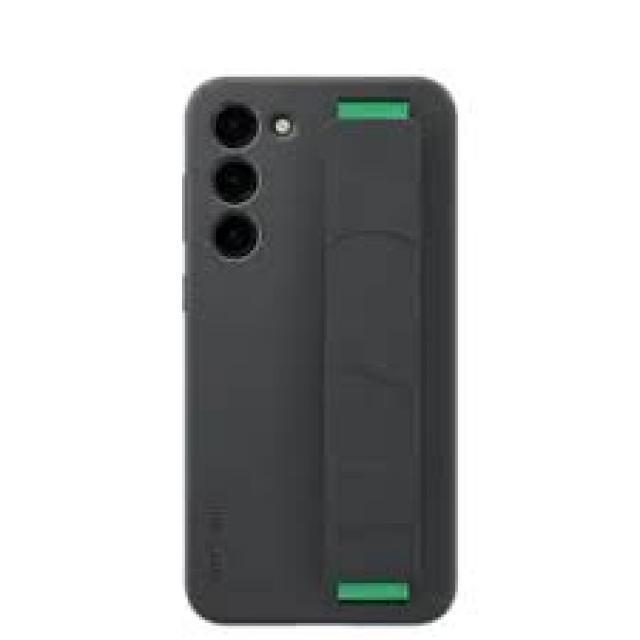Mobile: (183, 71, 462, 626)
